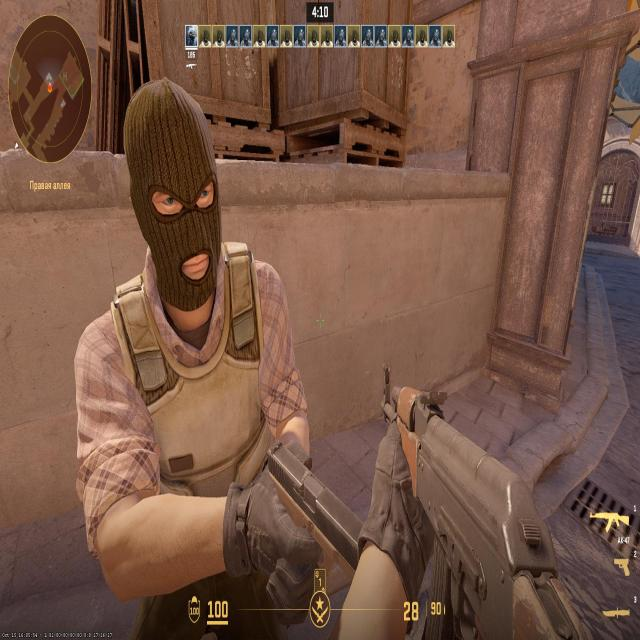T: (128, 151, 250, 556)
T_heat: (160, 165, 210, 265)
